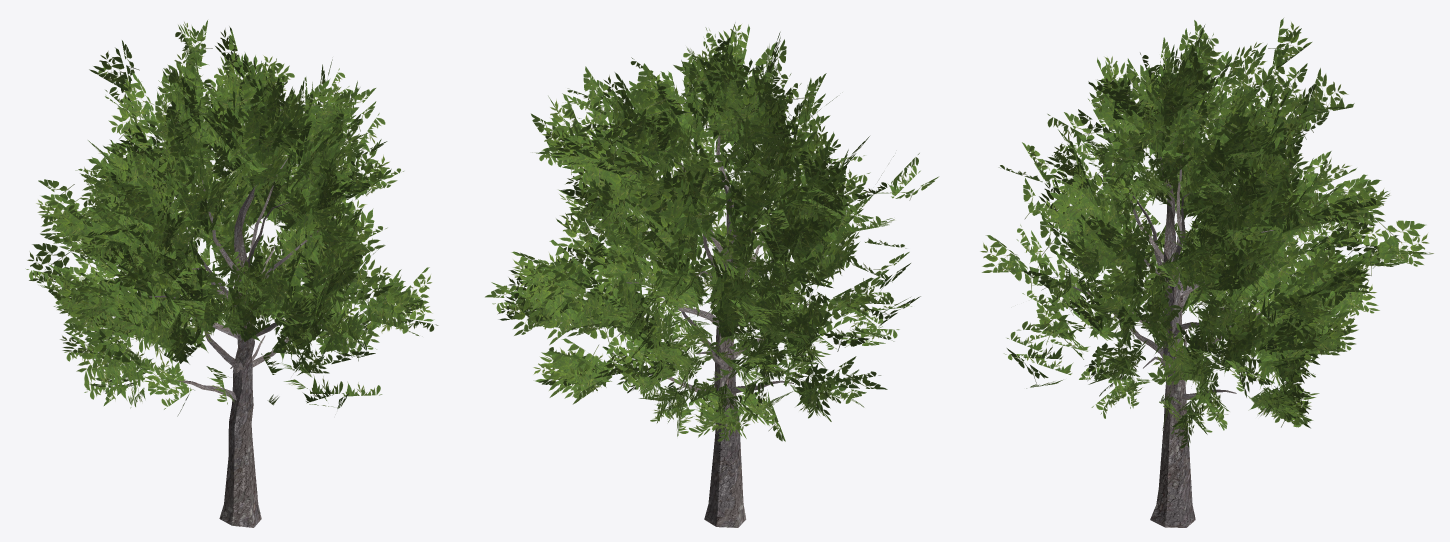
Rendered from tree4.glb.
3 renders of one model, left to right at view 1: azimuth 30°, elevation 25°; view 2: azimuth 150°, elevation 25°; view 3: azimuth 270°, elevation 25°, orthographic. The views are drawn at different scales.
Parts seen in each view (by area): view 1: SM_Tree_04; view 2: SM_Tree_04; view 3: SM_Tree_04.
Boxes of the visible parts, <box> form: SM_Tree_04: <box>26,20,438,527</box>; SM_Tree_04: <box>485,22,938,527</box>; SM_Tree_04: <box>980,18,1433,527</box>.
Size of the model in its own units: 0.3698 by 0.4411 by 0.3803.
2 materials, 2 textured.
